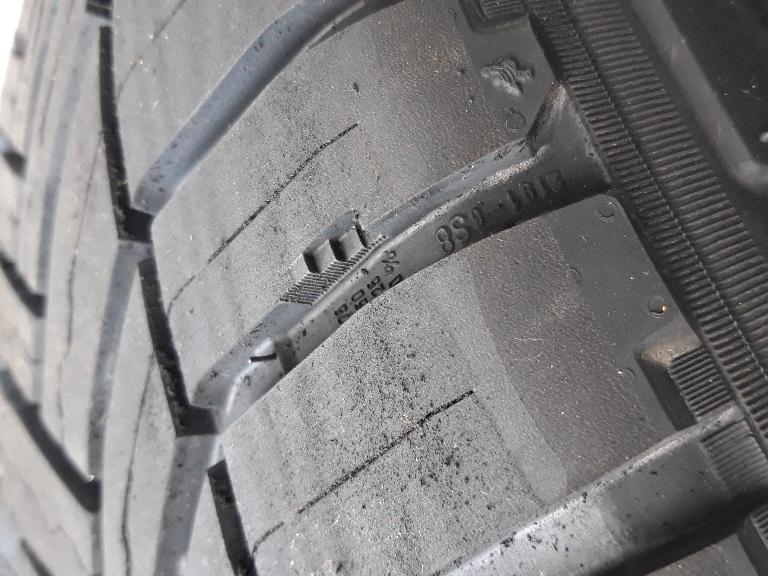temoin:75: (285, 204, 393, 293)
